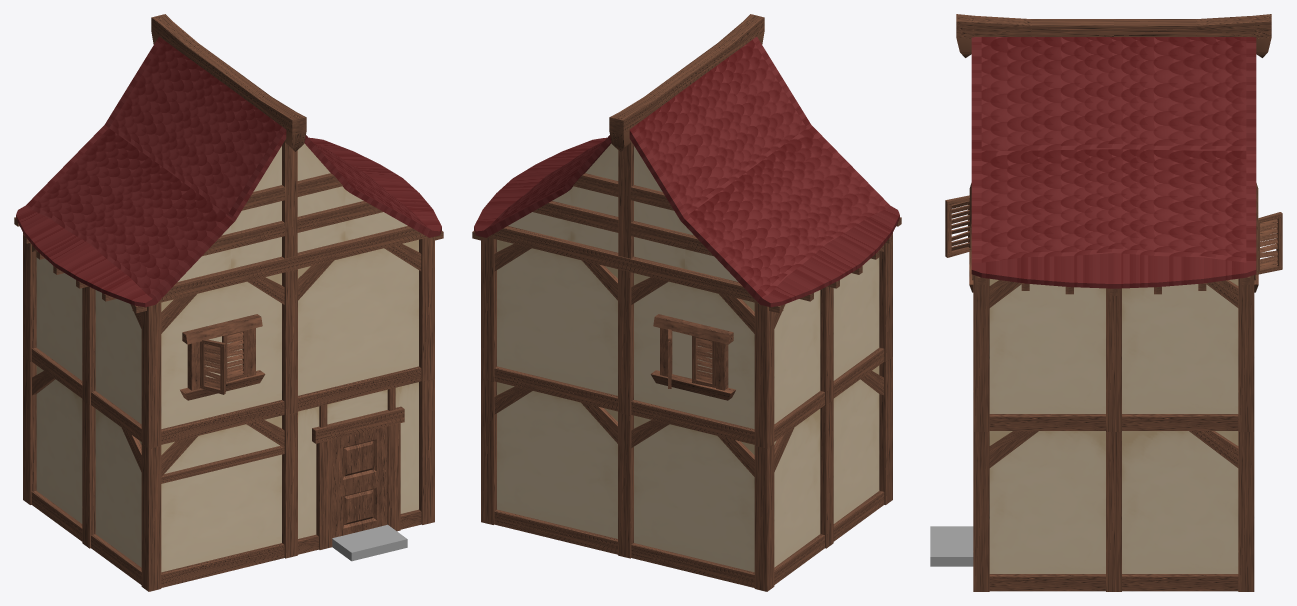
Rendered from House5_FBX.fbx.
3 views of the same model, side by side, from view 1: azimuth 30°, elevation 25°; view 2: azimuth 150°, elevation 25°; view 3: azimuth 270°, elevation 25° (orthographic). The views are drawn at different scales.
Visible parts, largest first — view 1: House5; view 2: House5; view 3: House5.
Part boxes in pixels (<box>): House5: <box>14,14,443,591</box>; House5: <box>472,14,901,591</box>; House5: <box>930,14,1282,591</box>.
Bounding box in the file's own units: 1017 × 1240 × 798.
